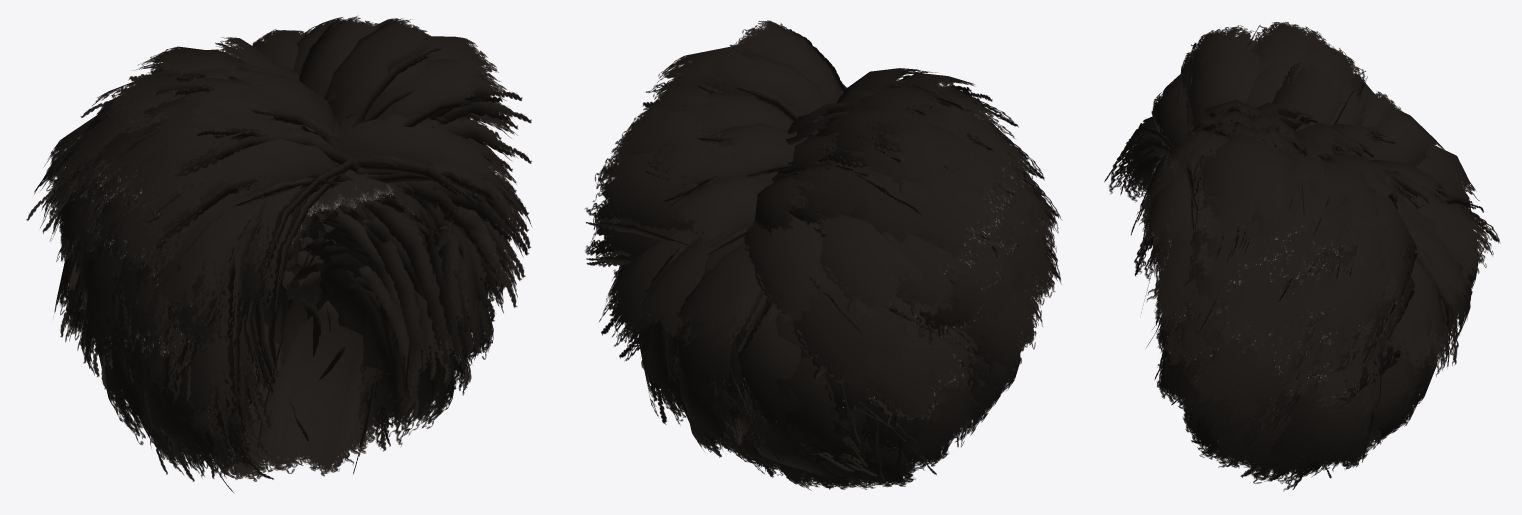
Rendered from hair_afro.glb.
3 renders of one model, left to right at view 1: azimuth 30°, elevation 25°; view 2: azimuth 150°, elevation 25°; view 3: azimuth 270°, elevation 25°, orthographic. The views are drawn at different scales.
Parts seen in each view (by area): view 1: hair_afro; view 2: hair_afro; view 3: hair_afro.
Boxes of the visible parts, <box> form: hair_afro: <box>26,16,532,492</box>; hair_afro: <box>584,20,1062,490</box>; hair_afro: <box>1104,22,1500,491</box>.
Bounding box in the file's own units: 0.3046 × 0.3041 × 0.2829.
1 material, 1 textured.
